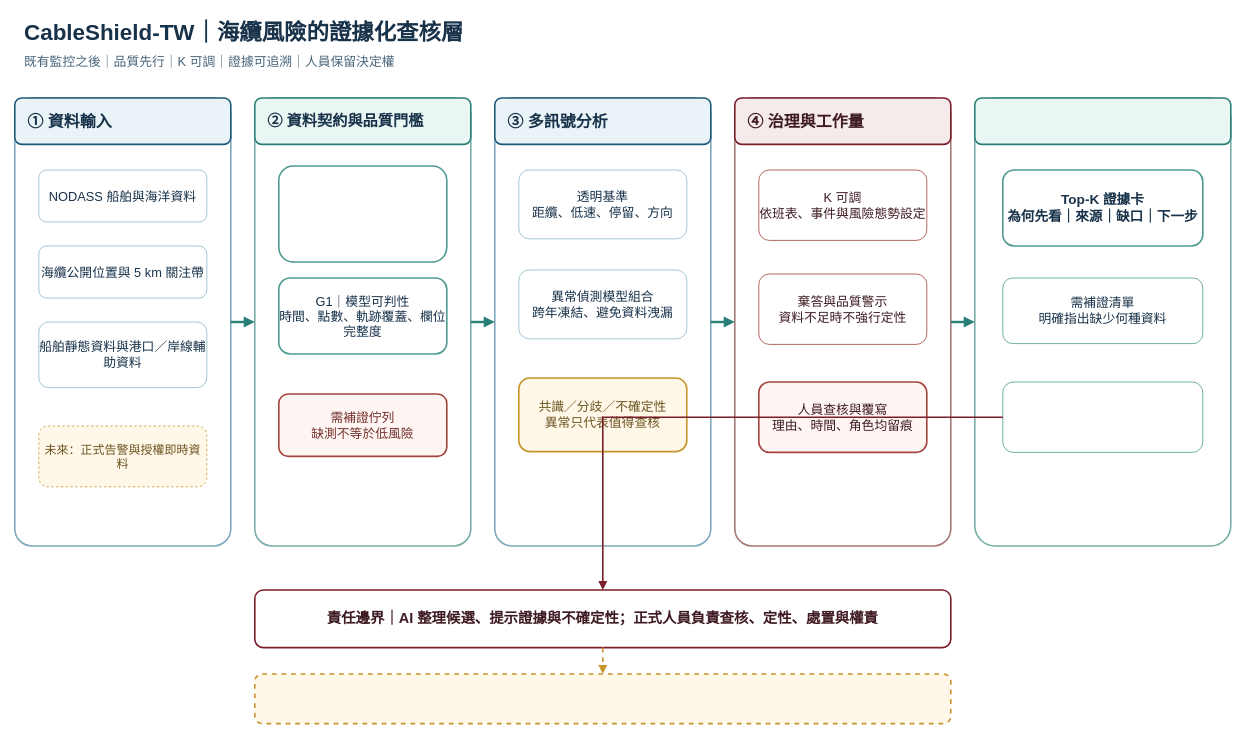
This 1245x738 diagram has some shape labels left out. The box of each missing label's shape, as (x1, y1, x2, y2) in pixels:
G0｜研究工作量 船日 × 5 km 關注帶 日中位數 656.5（約 657）: (278, 165, 447, 262)
⑤ 值勤輸出: (974, 97, 1231, 145)
查核紀錄與審計軌跡 支援交班、覆核與模型改進: (1002, 381, 1203, 452)
正式串接與場域實測：未來以影子模式、沙盒與分階段授權進行: (254, 673, 951, 724)
